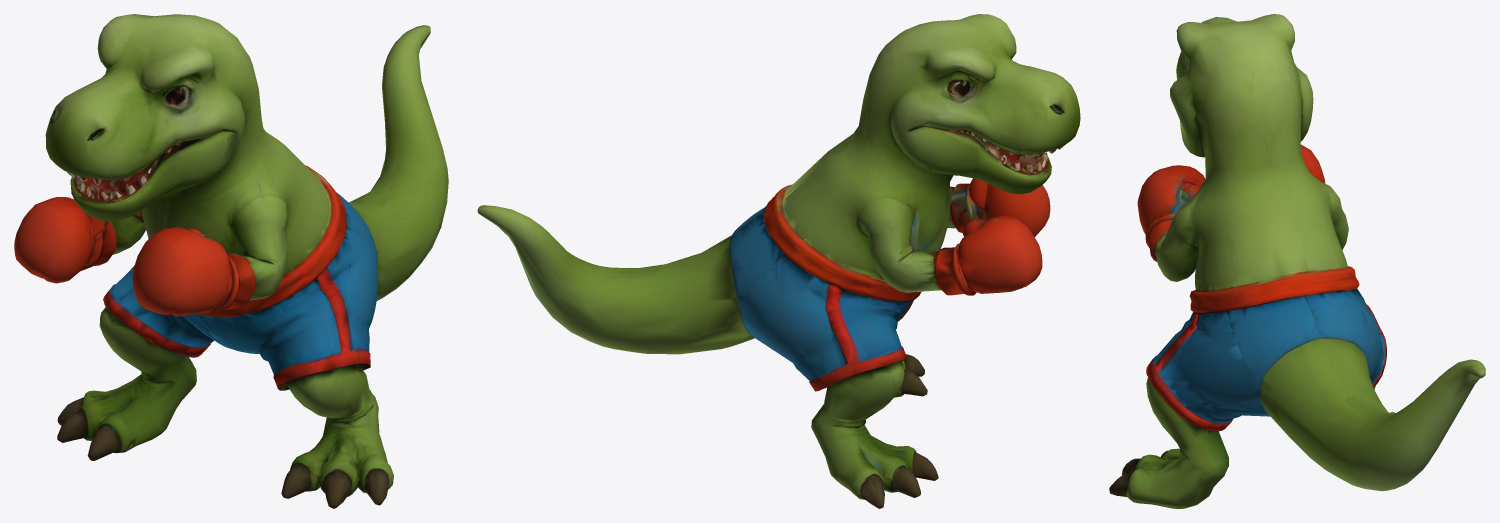
File: boks-dino.glb
3 renders of one model, left to right at view 1: azimuth 30°, elevation 25°; view 2: azimuth 150°, elevation 25°; view 3: azimuth 270°, elevation 25°, orthographic. The views are drawn at different scales.
Parts seen in each view (by area): view 1: texture_pbr_v128; view 2: texture_pbr_v128; view 3: texture_pbr_v128.
Boxes of the visible parts, x1,y1,x2,y2 form: texture_pbr_v128: (14,14,448,508); texture_pbr_v128: (477,14,1080,508); texture_pbr_v128: (1109,14,1485,508).
Bounding box in the file's own units: 0.9804 × 0.8346 × 0.6898.
Materials: 1 (1 with a texture image).
